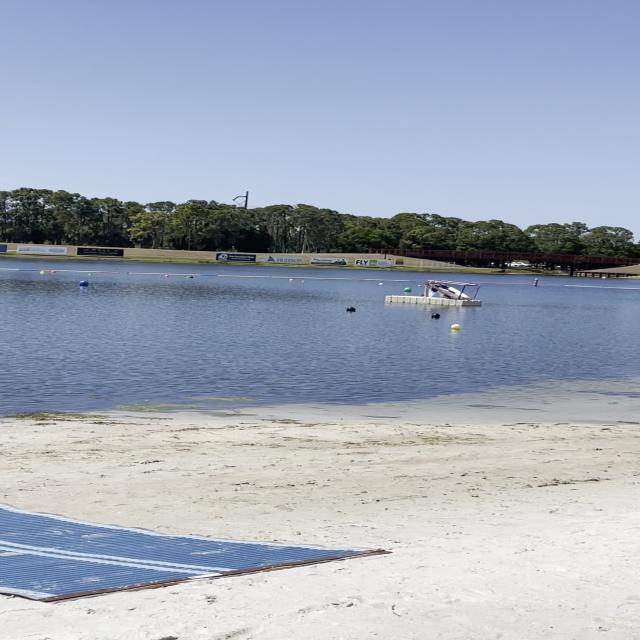buoy: (346, 306, 356, 312), (78, 280, 88, 286), (450, 323, 460, 329), (404, 286, 412, 292), (432, 313, 441, 318)
